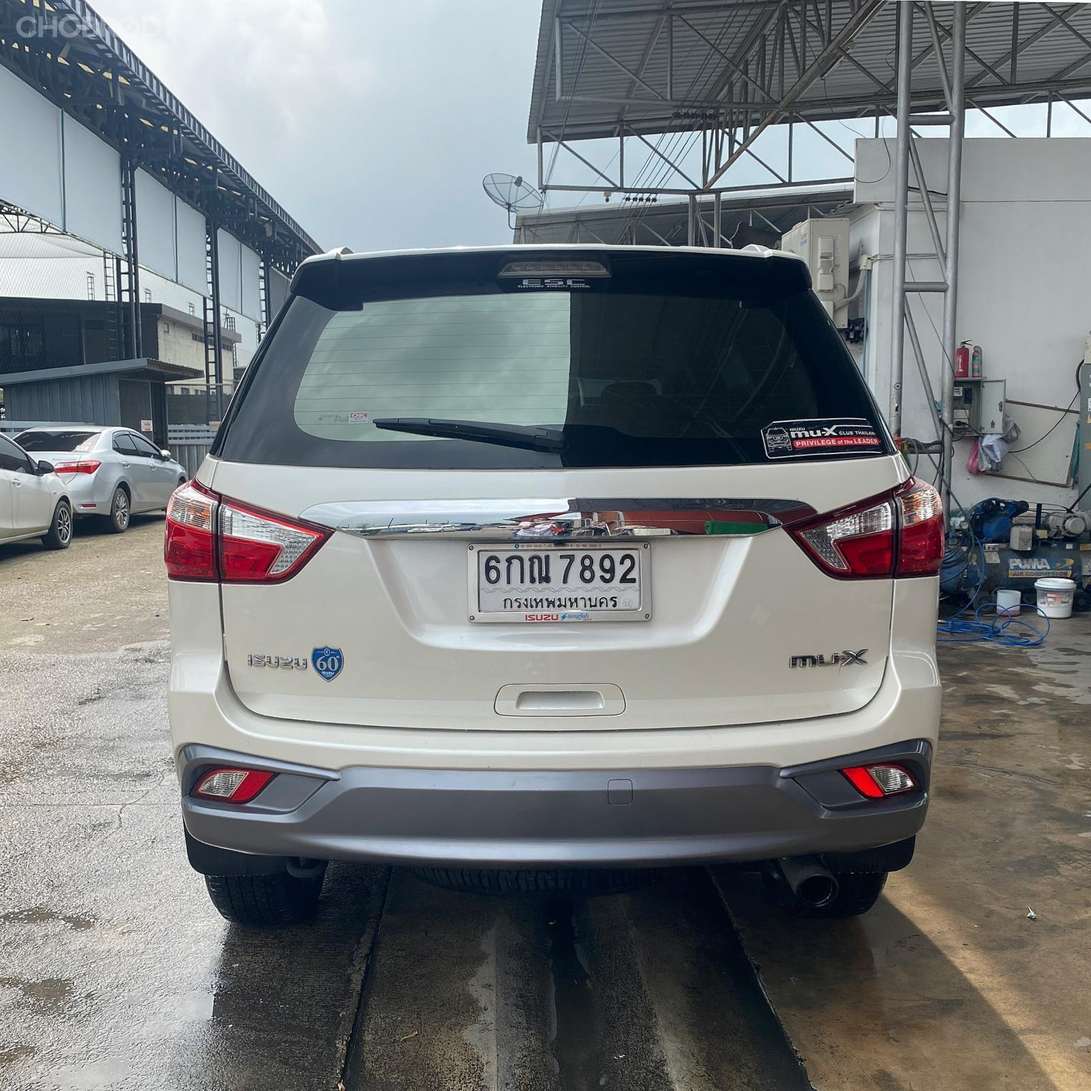license-plate: (459, 530, 657, 627)
